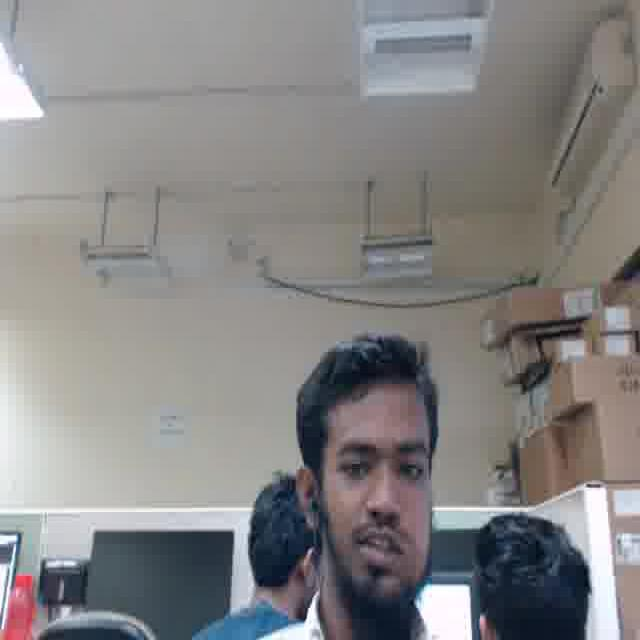Engaged: (320, 392, 437, 599)
